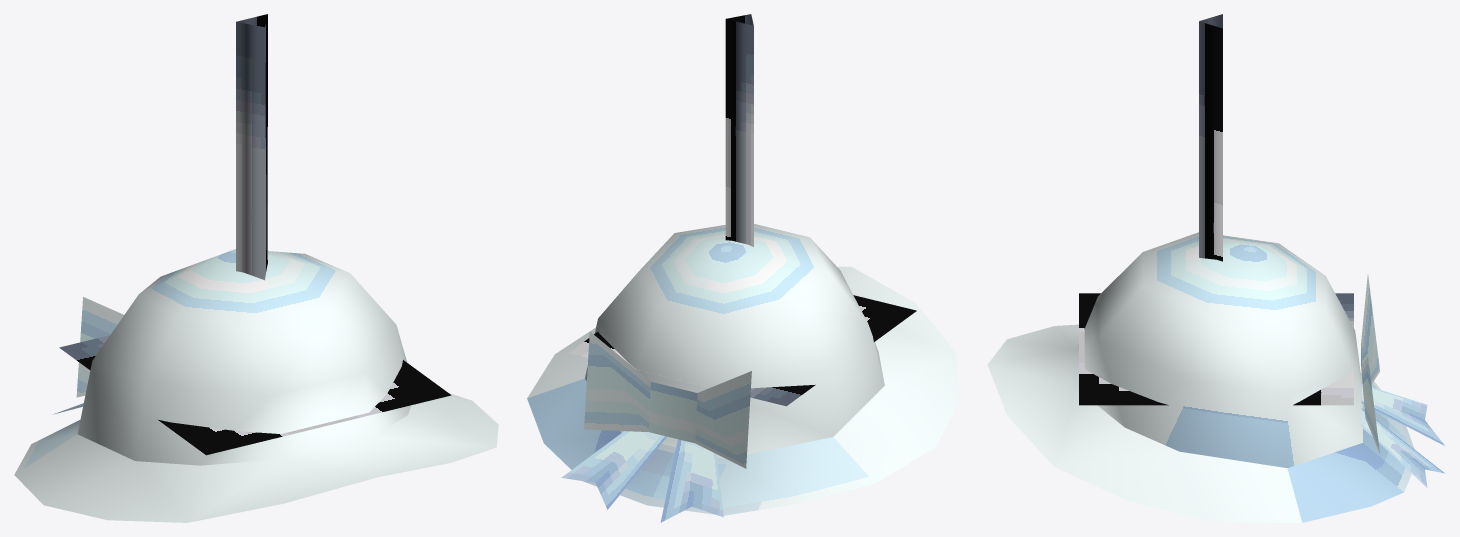
3 views of the same model, side by side, from view 1: azimuth 30°, elevation 25°; view 2: azimuth 150°, elevation 25°; view 3: azimuth 270°, elevation 25° (orthographic). The views are drawn at different scales.
Visible parts, largest first — view 1: 2893head028_c; view 2: 2893head028_c; view 3: 2893head028_c.
Boxes of the visible parts, box(x1,y1,x2,y2) form: 2893head028_c: box(14, 14, 498, 522); 2893head028_c: box(527, 14, 958, 522); 2893head028_c: box(987, 14, 1444, 522).
Bounding box in the file's own units: 0.8071 × 0.8442 × 0.7988.
Materials: 2 (2 with a texture image).
